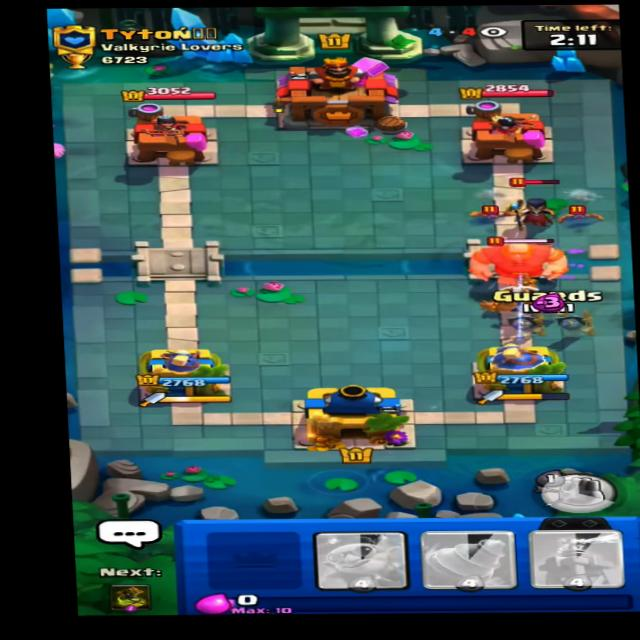bats: (463, 200, 513, 223), (552, 203, 604, 225)
giant: (469, 233, 573, 290)
night-witch: (501, 181, 572, 227)
